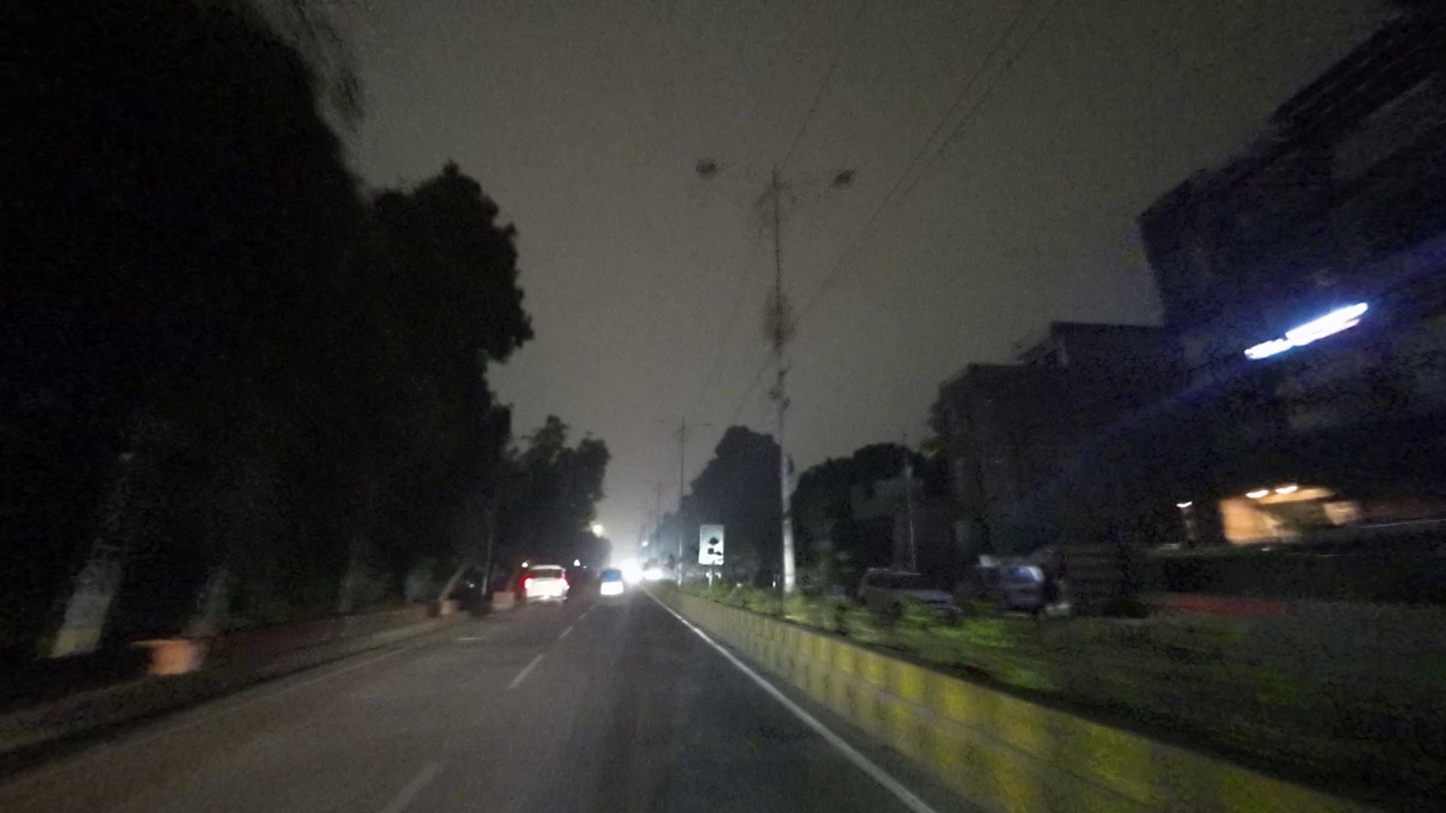streetlight: (693, 156, 770, 183), (790, 167, 858, 193)
